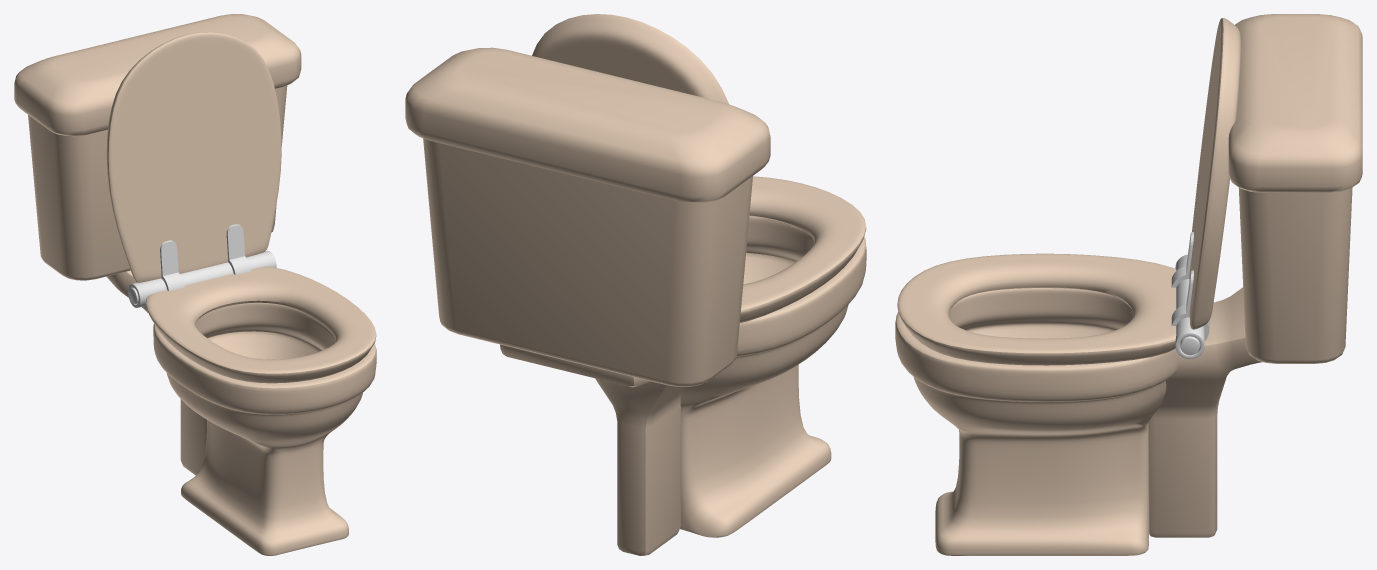
Rendered from Toilet.fbx.
The picture shows the model from 3 angles, left to right: view 1: azimuth 30°, elevation 25°; view 2: azimuth 150°, elevation 25°; view 3: azimuth 270°, elevation 25°; orthographic projection. The views are drawn at different scales.
Visible parts, largest first — view 1: Toilet; view 2: Toilet; view 3: Toilet.
Boxes of the visible parts, x1,y1,x2,y2 form: Toilet: (14, 14, 376, 555); Toilet: (405, 14, 866, 555); Toilet: (895, 14, 1362, 555).
Size of the model in its own units: 83.88 by 137 by 115.
